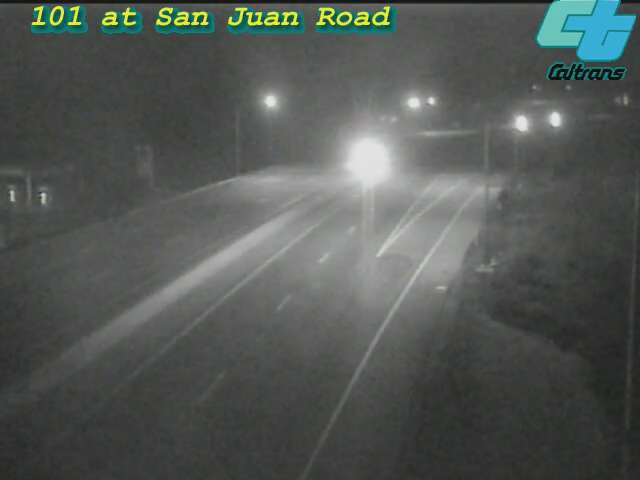vehicle: (322, 123, 402, 203), (492, 100, 542, 150), (527, 94, 577, 144)
